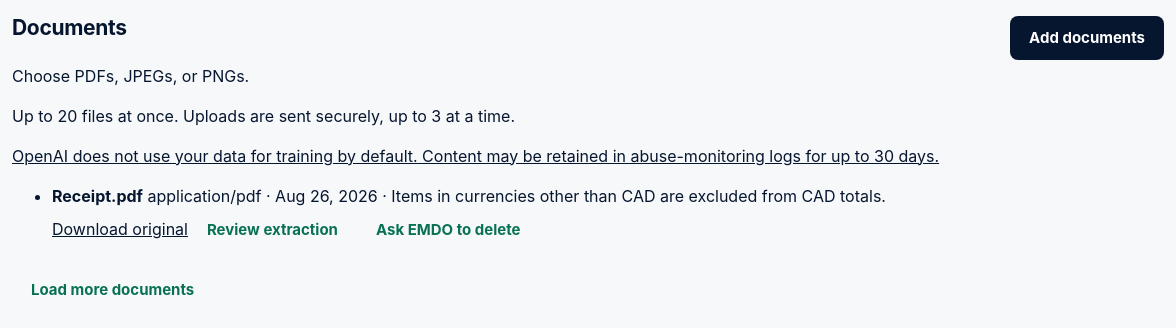
Scenario: FinanceDocuments › fails closed when a document cursor repeats instead of looping forever
This screenshot has width=1176, height=328.
Click the button "Load more documents" at (113, 290), box [12,268,213,312]
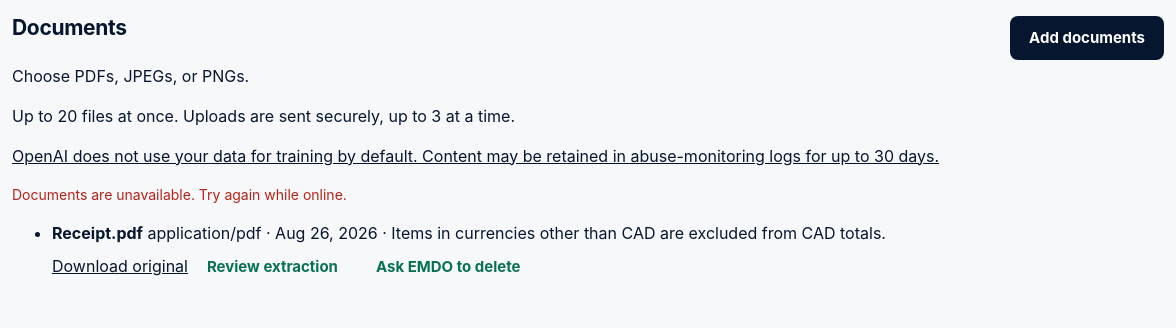
Result: the text "Documents are unavailable. Try again while online." is shown at [12,186,347,202]
Result: the button "Load more documents" is gone
